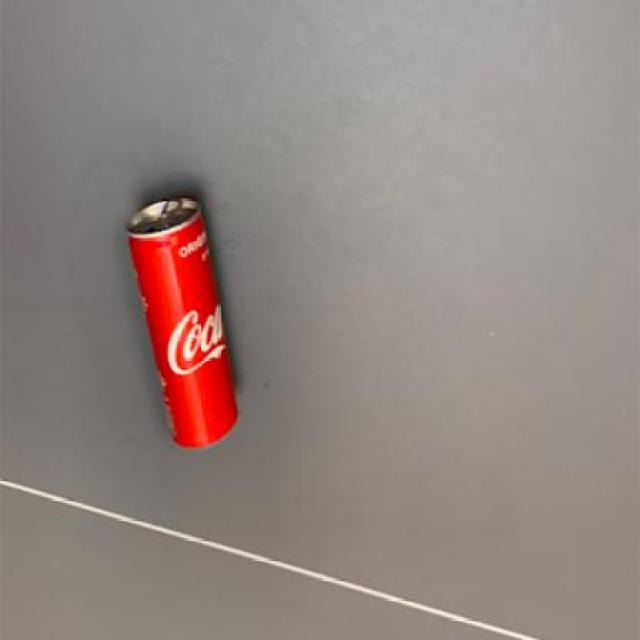Metal: (124, 196, 241, 451)
